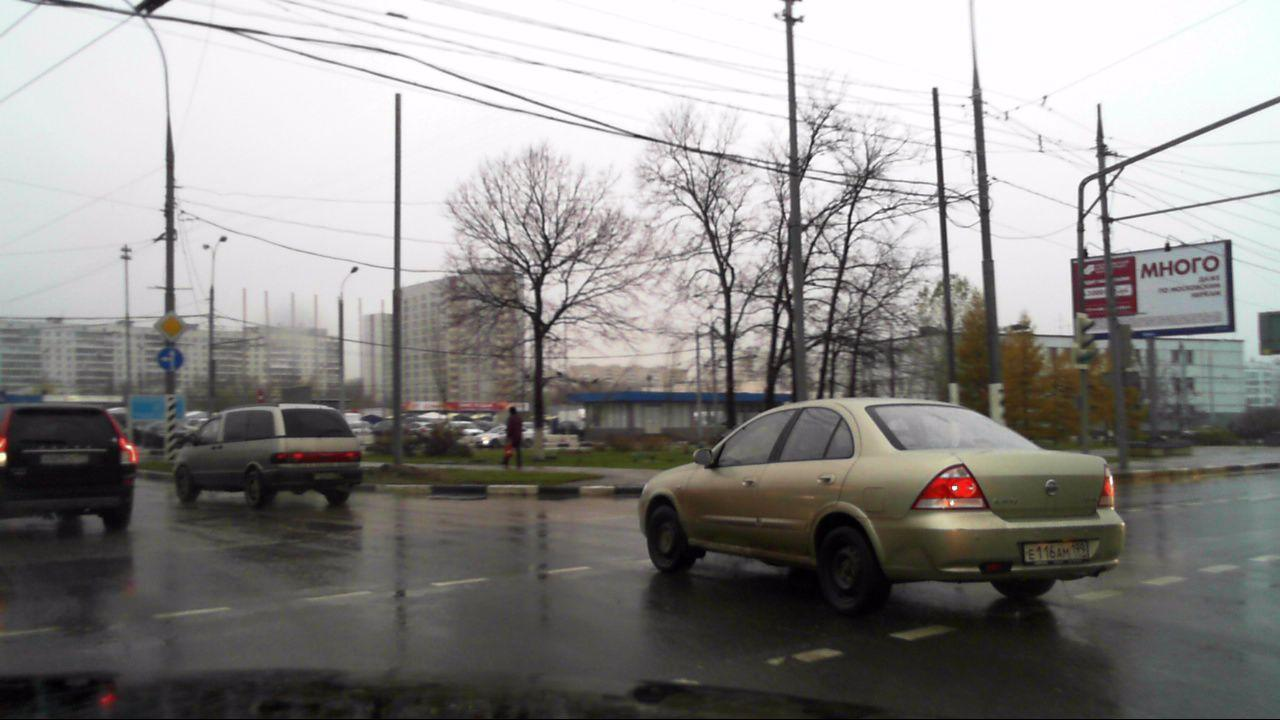road_sign: (152, 310, 189, 343), (157, 347, 184, 372)
